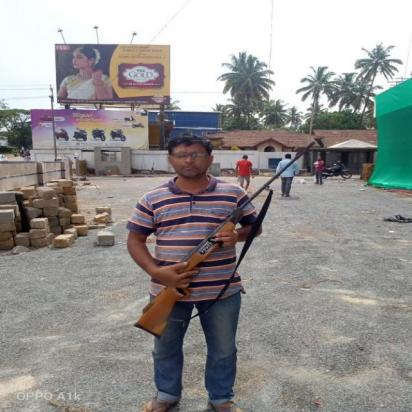Gun: (132, 140, 317, 341)
